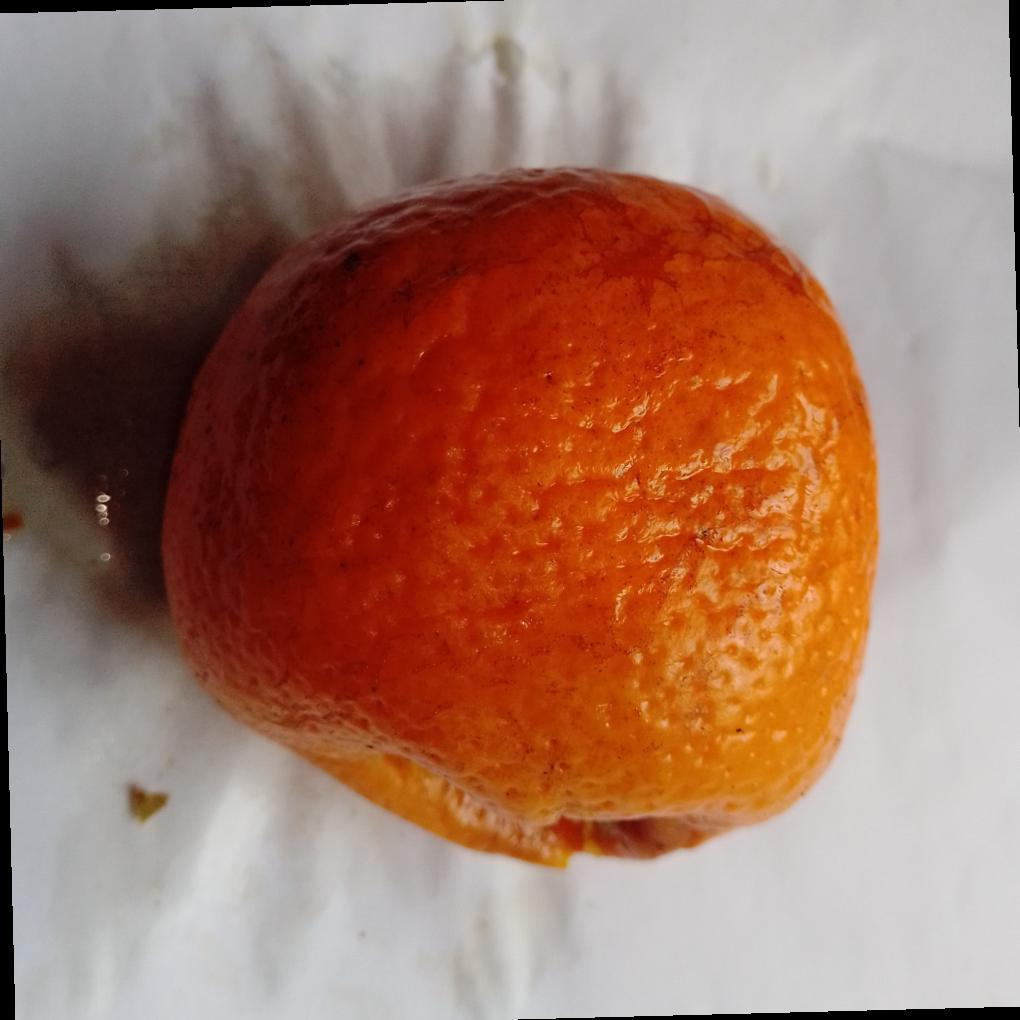FreshOrange: (158, 168, 881, 873)
